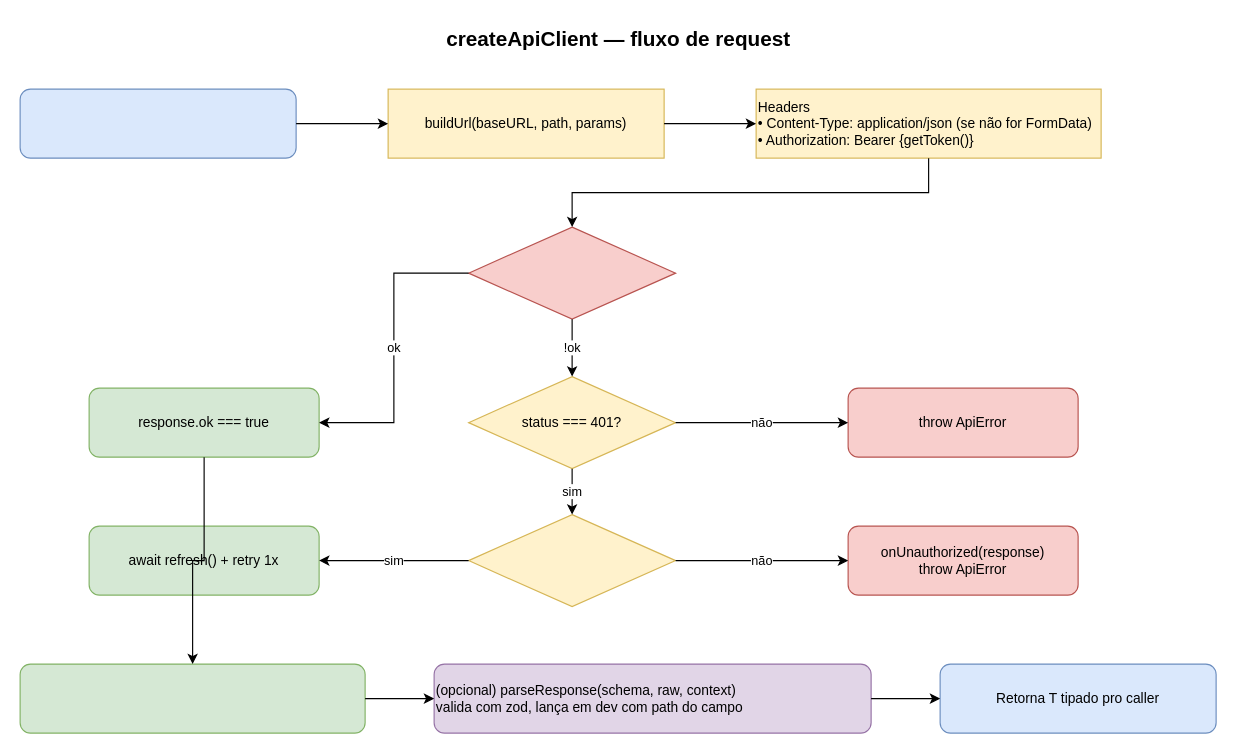
Some shapes in this 1236 by 753 pixel diagram are drawn without their labels. The shapes that lost their labels are listed below. From the top down, each one's box as (x1, y1, x2, y2) in pixels, then its label:
(19, 88, 296, 158): Service / hook chama api.get("/users/me")
(467, 226, 676, 319): fetch(url, init)
(467, 513, 676, 607): refresh() configurado?
(19, 663, 365, 733): Content-Type JSON? → response.json() Caso contrário → text()
